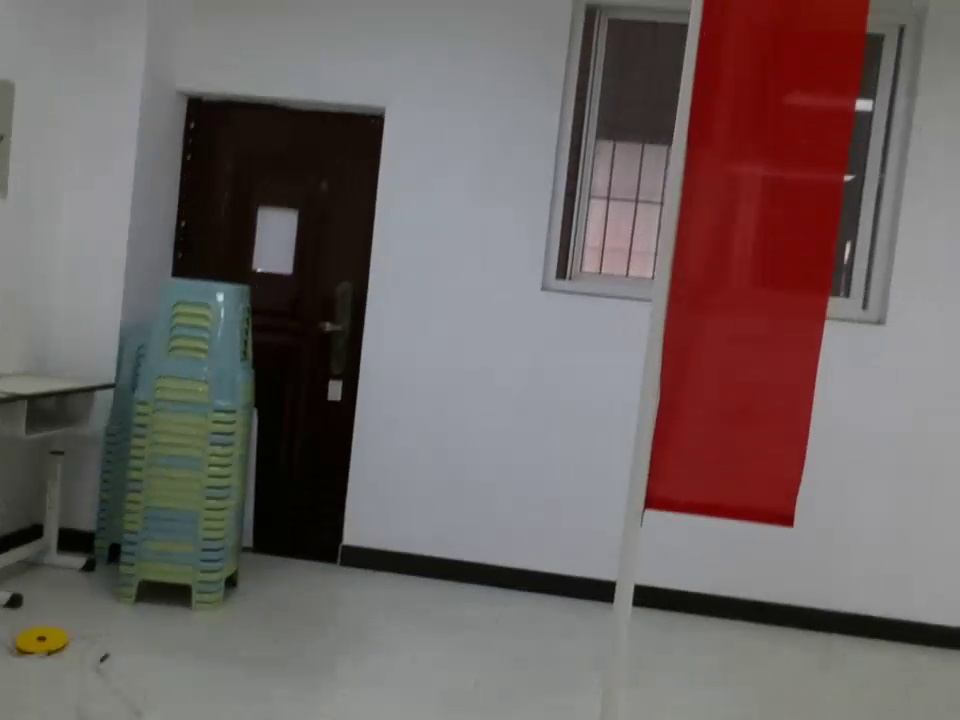qi: (638, 1, 864, 546)
